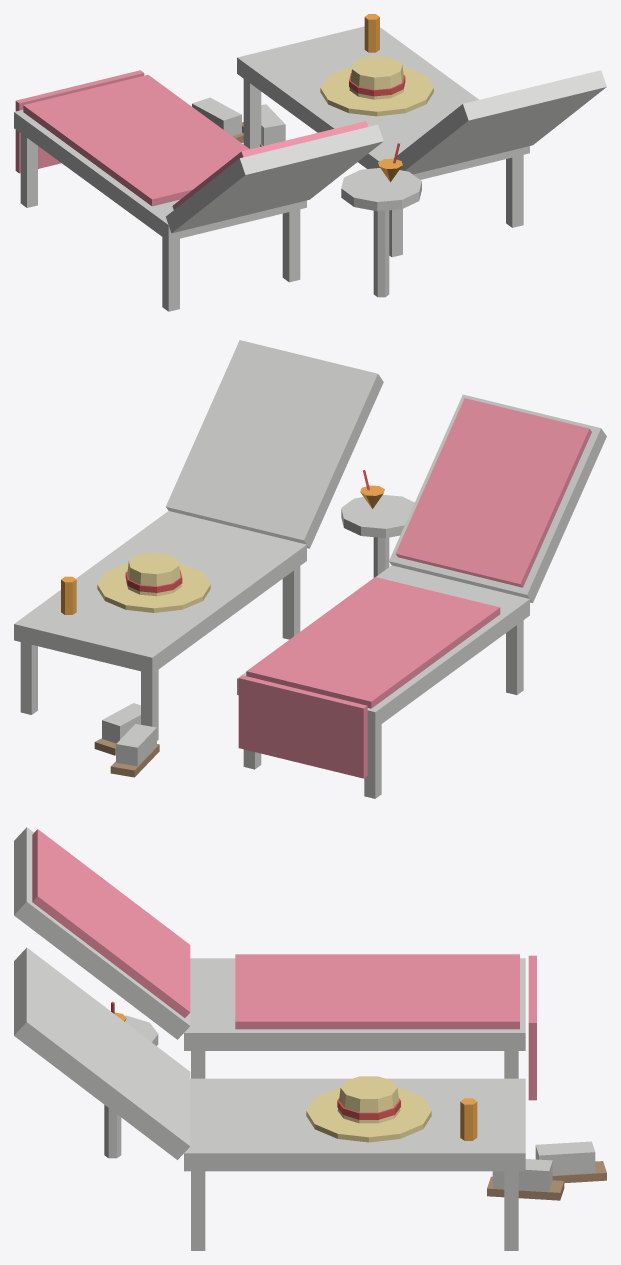
File: CR_Tumbona.fbx
The picture shows the model from 3 angles, top to bottom: view 1: azimuth 30°, elevation 25°; view 2: azimuth 150°, elevation 25°; view 3: azimuth 270°, elevation 25°; orthographic projection. The views are drawn at different scales.
Parts seen in each view (by area): view 1: CR_Tumbona; view 2: CR_Tumbona; view 3: CR_Tumbona.
Part boxes in pixels (bbox=[...]): CR_Tumbona: bbox=[14, 14, 606, 311]; CR_Tumbona: bbox=[14, 340, 606, 798]; CR_Tumbona: bbox=[14, 827, 606, 1250].
Size of the model in its own units: 1.62 by 0.9008 by 2.08.
